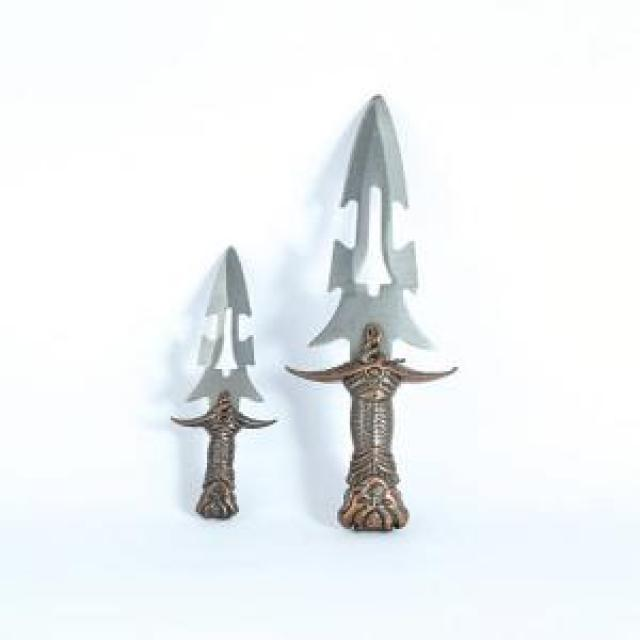knife: (284, 88, 466, 534), (173, 245, 262, 525)
